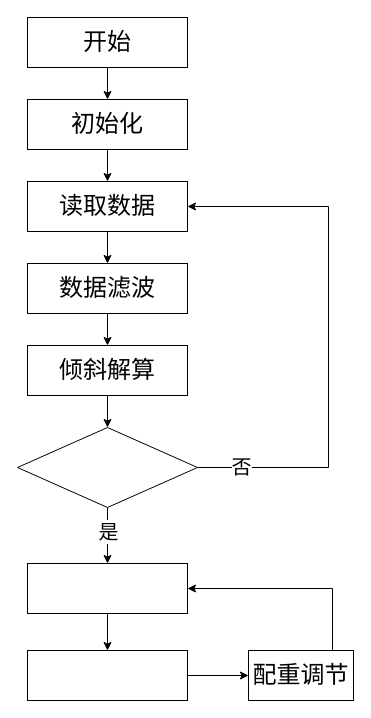
This 371x718 diagram has some shape labels left out. Here are the shapes that lost their labels. From the top down, the centre of each, then its label:
point (107, 467): 是否倾斜？
point (107, 588): 控制决策
point (107, 675): 电机驱动
